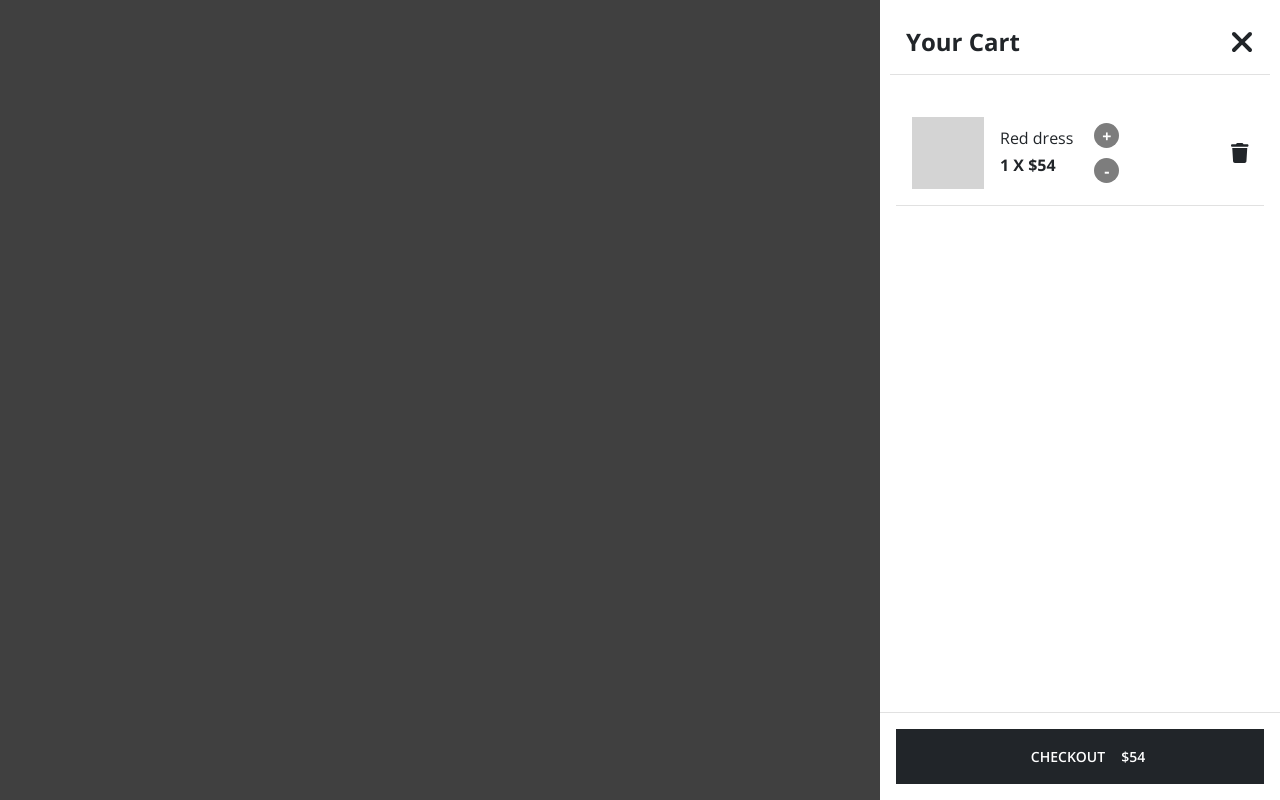
Test case: Test Cart › Test Cart functionality › can delete product
The width and height of the screenshot is (1280, 800).
Click the picture with test id "trash" at [1239, 152], box top-left (1230, 142), bottom-right (1248, 162)
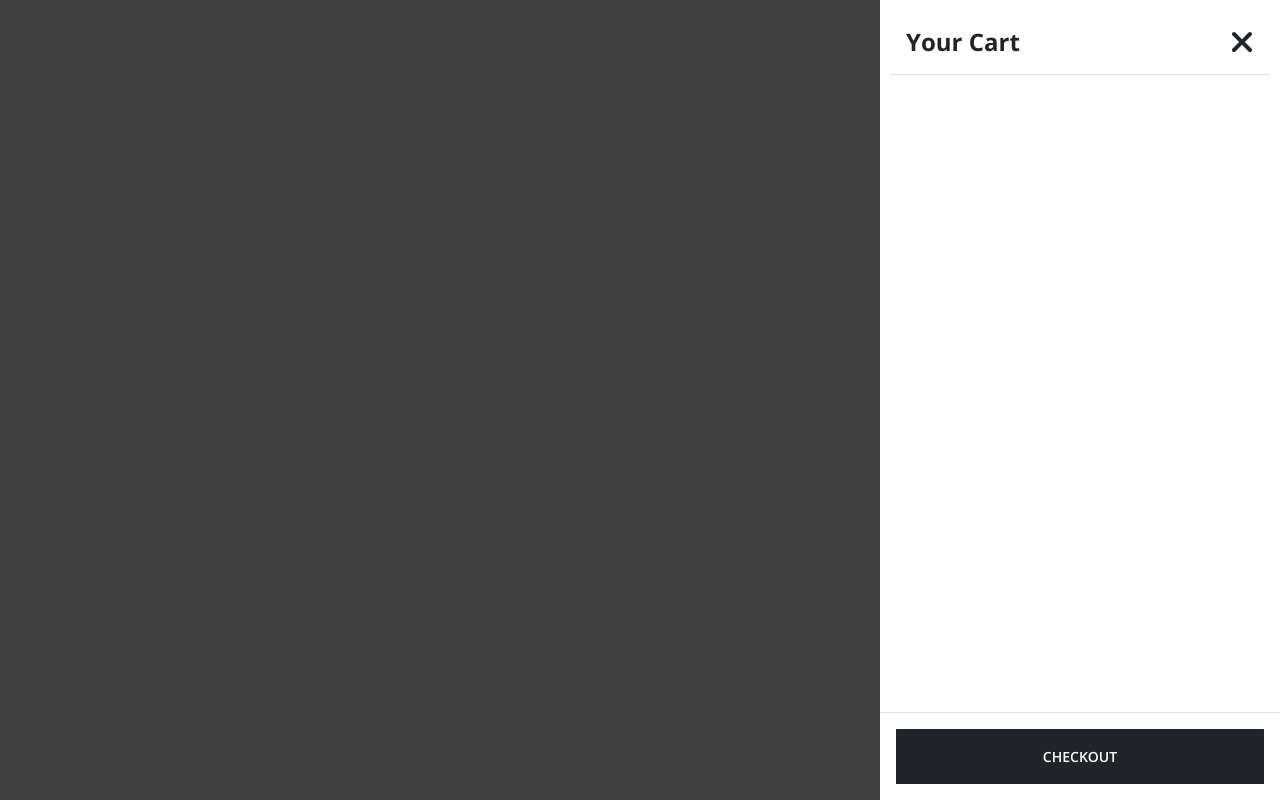
Now the text "1 X $54" is gone
